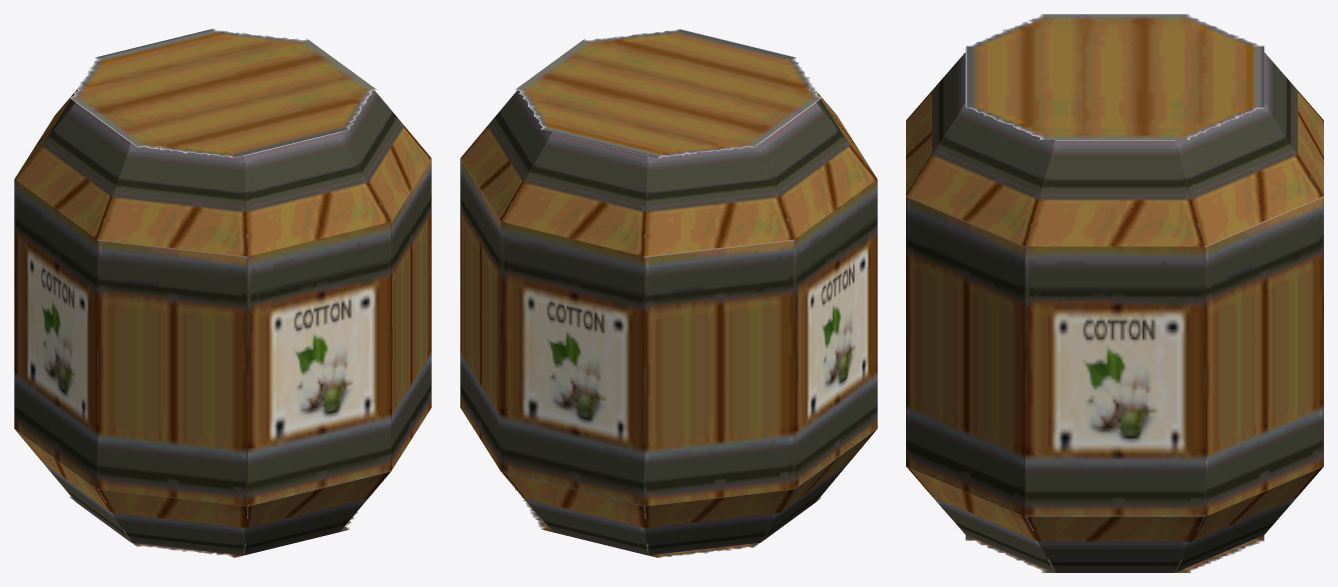
File: cotton_seed_barrel.obj
3 renders of one model, left to right at view 1: azimuth 30°, elevation 25°; view 2: azimuth 150°, elevation 25°; view 3: azimuth 270°, elevation 25°, orthographic. The views are drawn at different scales.
Parts seen in each view (by area): view 1: cotton_seed_barrel; view 2: cotton_seed_barrel; view 3: cotton_seed_barrel.
Boxes of the visible parts, bbox=[...] form: cotton_seed_barrel: bbox=[14, 28, 431, 557]; cotton_seed_barrel: bbox=[460, 29, 877, 558]; cotton_seed_barrel: bbox=[906, 14, 1323, 572].
Bounding box in the file's own units: 0.875 × 1 × 0.875.
